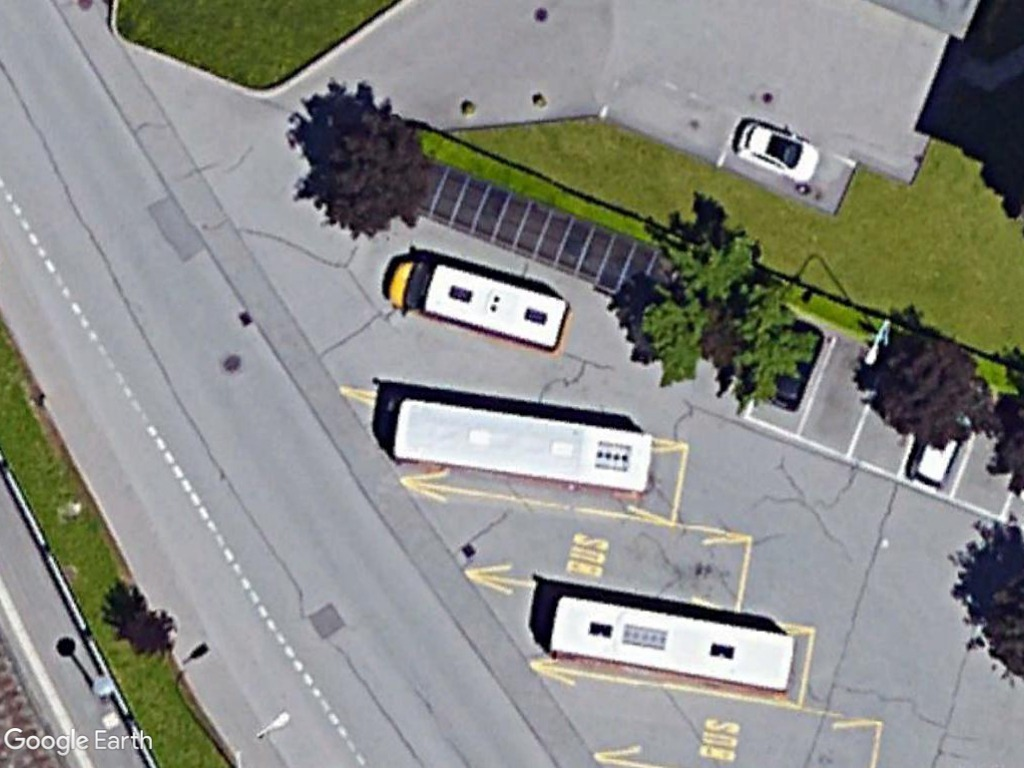bus: (385, 389, 660, 498), (543, 587, 800, 695)
car: (731, 117, 824, 188)
